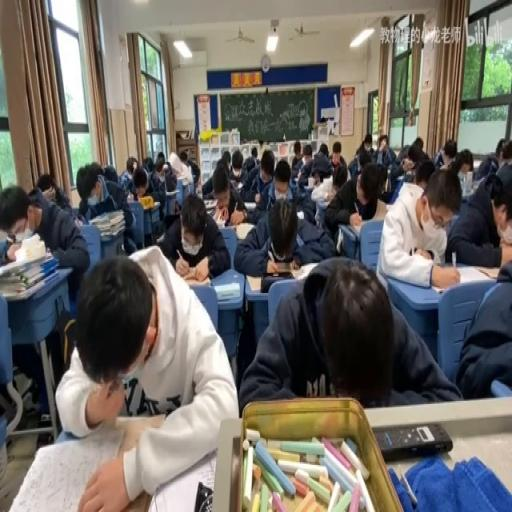calculator: (148, 445, 220, 512), (291, 262, 323, 280), (213, 282, 241, 300), (234, 222, 256, 240), (244, 274, 262, 292), (182, 276, 208, 286), (213, 205, 227, 223), (430, 284, 452, 294), (470, 175, 485, 189), (202, 196, 215, 209), (0, 227, 10, 243), (315, 195, 328, 206), (302, 180, 316, 190), (164, 186, 177, 196), (73, 215, 84, 226), (195, 182, 202, 199), (180, 175, 190, 186), (243, 201, 256, 209), (221, 222, 234, 230), (296, 209, 304, 219), (395, 172, 405, 179), (235, 181, 243, 189), (149, 199, 158, 206)
paper: (57, 245, 237, 505), (240, 256, 457, 414), (2, 179, 88, 418), (374, 166, 464, 292), (454, 246, 512, 400), (234, 192, 335, 276), (157, 186, 228, 279), (78, 159, 138, 255), (326, 156, 386, 244), (128, 164, 166, 238), (201, 154, 240, 202), (166, 148, 196, 209), (233, 148, 261, 199), (472, 145, 501, 181), (371, 134, 397, 166), (350, 135, 373, 171), (294, 142, 314, 182), (329, 141, 348, 183), (493, 164, 512, 200), (414, 159, 436, 189), (434, 138, 456, 168), (310, 150, 330, 180), (385, 172, 403, 203), (454, 148, 472, 178), (258, 148, 274, 176), (274, 160, 290, 188), (36, 171, 54, 192), (119, 171, 134, 192), (92, 162, 106, 184), (154, 150, 166, 174), (124, 155, 138, 174), (395, 145, 408, 164), (410, 140, 422, 160), (221, 148, 231, 171), (494, 139, 506, 158), (378, 173, 388, 195), (142, 155, 153, 174), (334, 176, 346, 192), (185, 158, 194, 175), (318, 142, 328, 156), (178, 150, 187, 164), (250, 144, 256, 158)
person: (374, 422, 451, 461), (261, 276, 293, 293), (270, 267, 292, 276), (173, 199, 179, 213)
